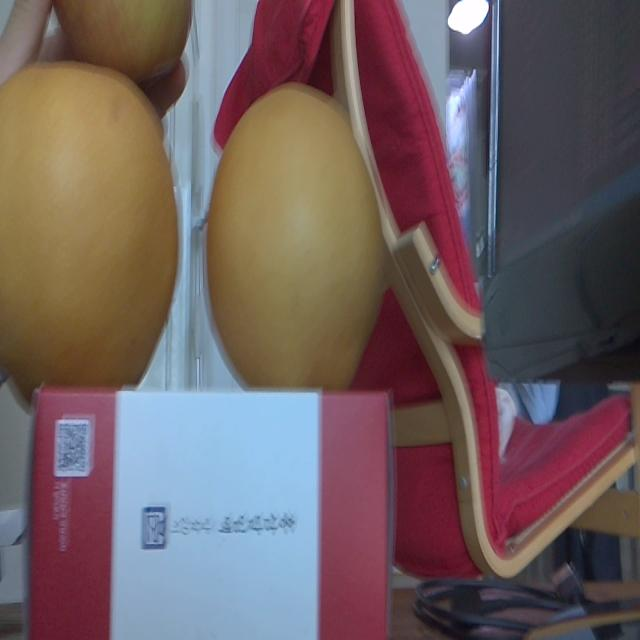pear: (0, 58, 179, 386), (208, 83, 390, 394)
